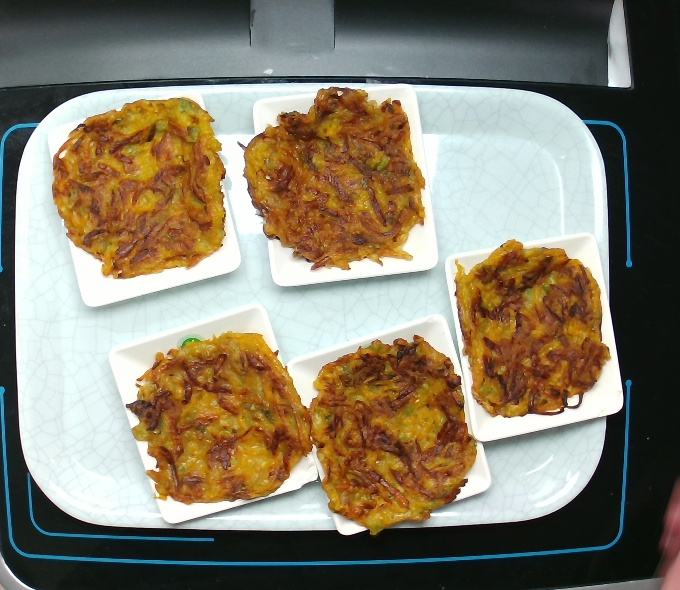wcq-NanGuaBing: (302, 334, 476, 535), (238, 88, 426, 271), (131, 324, 316, 506), (50, 99, 236, 267), (456, 229, 613, 422)
